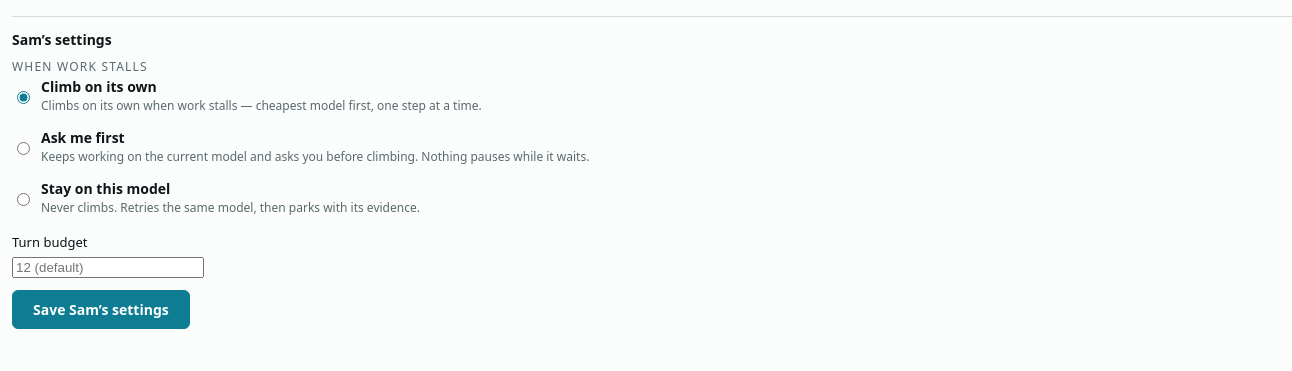
Scenario: MemberSettings (W20-06) › saves this member only, and says so — a per-member knob that silently changed everyone would be worse than none
The width and height of the screenshot is (1292, 371).
Click the radio button with test id "escalation-ask" at (24, 148), box [17, 142, 30, 154]
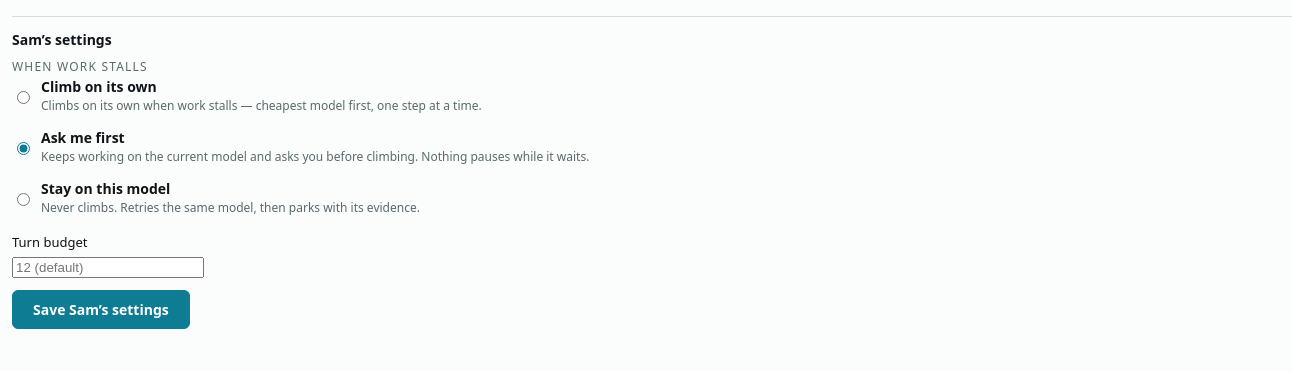
Type "20" into the number field with test id "member-turns" at (108, 267), box [12, 256, 204, 278]
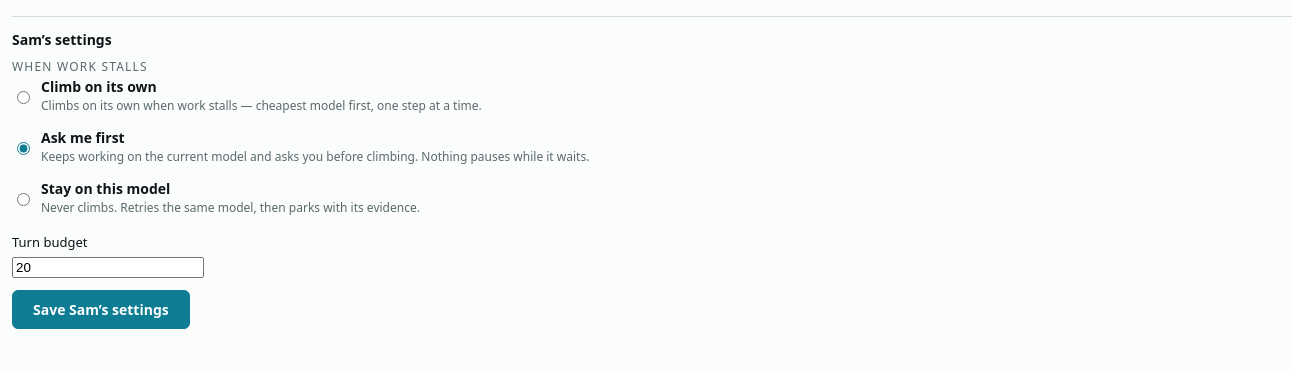
Click the button with test id "member-settings-save" at (101, 309), box [12, 290, 190, 328]
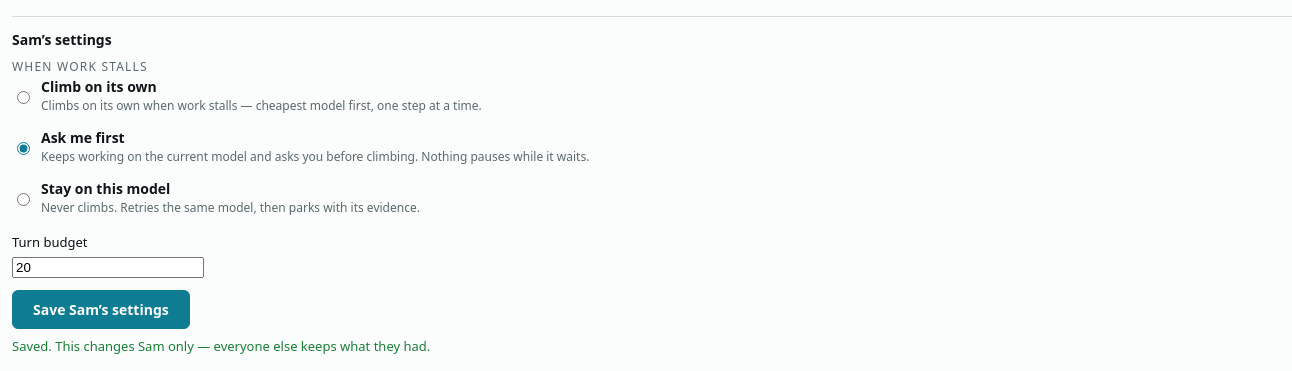
Result: the message with test id "member-settings-saved" shows "everyone else keeps what they had" at [165, 336, 430, 354]
